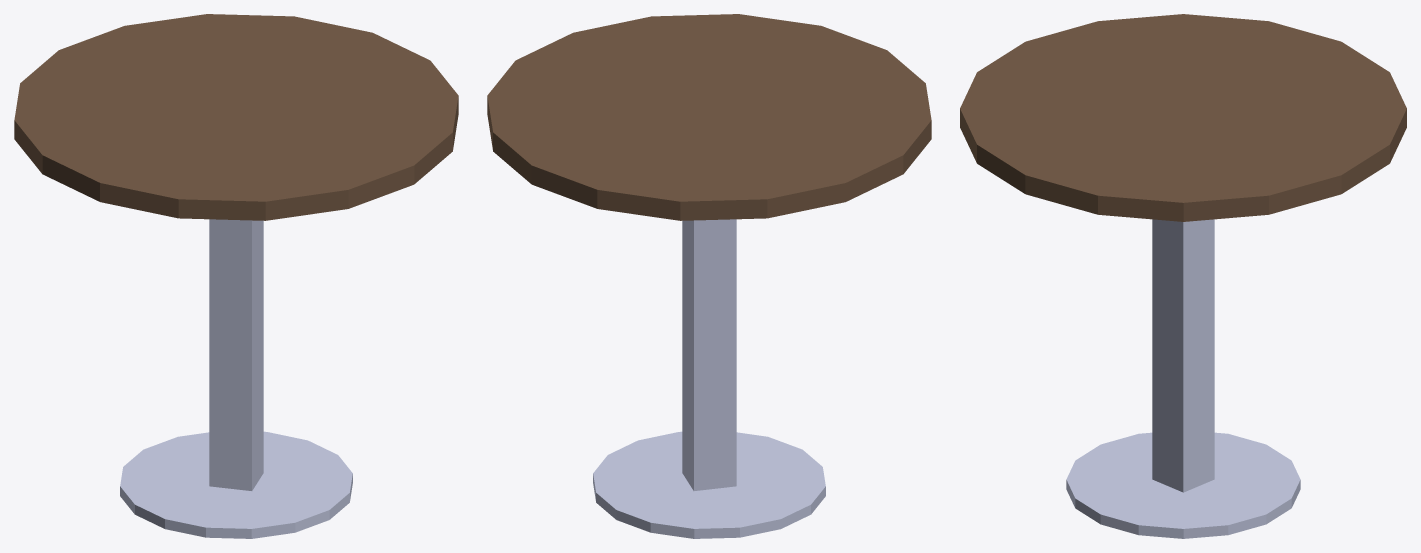
File: table.gltf
3 views of the same model, side by side, from view 1: azimuth 30°, elevation 25°; view 2: azimuth 150°, elevation 25°; view 3: azimuth 270°, elevation 25° (orthographic).
Visible parts, largest first — view 1: TableTop, TableFoot, TableLeg; view 2: TableTop, TableFoot, TableLeg; view 3: TableTop, TableFoot, TableLeg.
Part boxes in pixels (x1,y1,x2,y2): TableTop: (14, 14, 458, 220); TableFoot: (120, 431, 352, 538); TableLeg: (209, 219, 263, 490); TableTop: (487, 14, 931, 220); TableFoot: (593, 431, 825, 538); TableLeg: (682, 219, 736, 490); TableTop: (960, 14, 1406, 221); TableFoot: (1066, 432, 1300, 538); TableLeg: (1152, 219, 1214, 492).
Size of the model in its own units: 1 by 0.9407 by 1.
